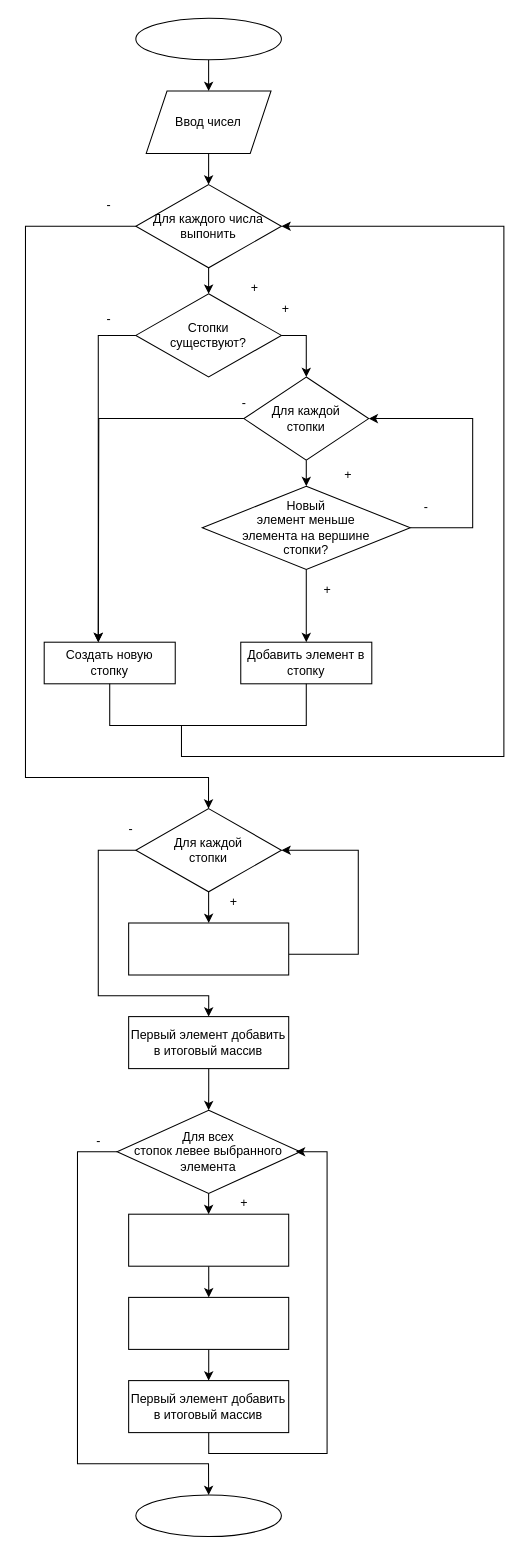
This 530x1555 diagram has some shape labels left out. Here are the shapes that lost their labels. From the top down, the box of each, then its label:
(135, 17, 281, 60): Начало
(128, 922, 289, 975): Добавить верхние элементы стопок в очерль
(128, 1213, 289, 1266): Найти минимум
(128, 1296, 289, 1349): Добавить минимум в очерель
(135, 1494, 281, 1537): Конец
